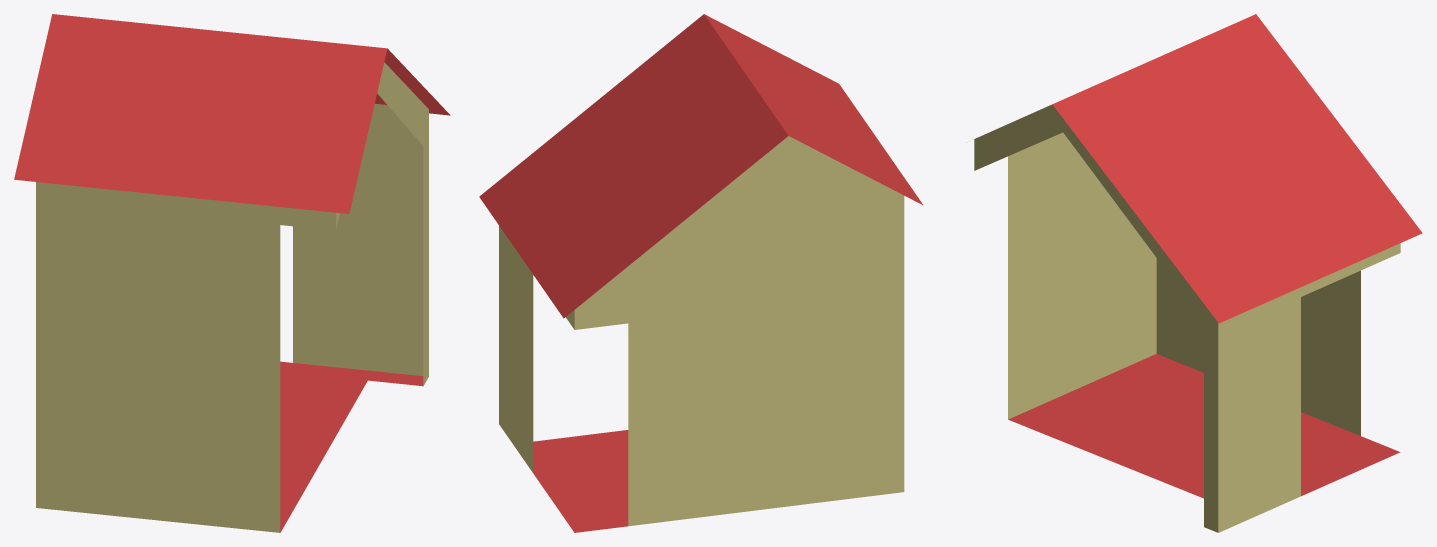
3 renders of one model, left to right at view 1: azimuth 30°, elevation 25°; view 2: azimuth 150°, elevation 25°; view 3: azimuth 270°, elevation 25°, orthographic. The views are drawn at different scales.
Bounding box in the file's own units: 14.99 × 15.06 × 13.1.
